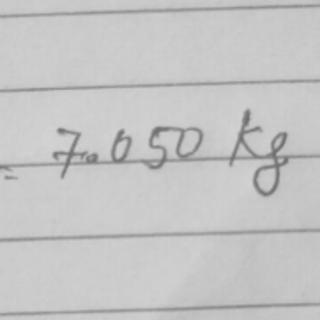.: (82, 146, 103, 168)
0: (177, 121, 204, 160), (110, 128, 133, 164)
5: (141, 122, 179, 173)
7: (46, 127, 88, 180)
